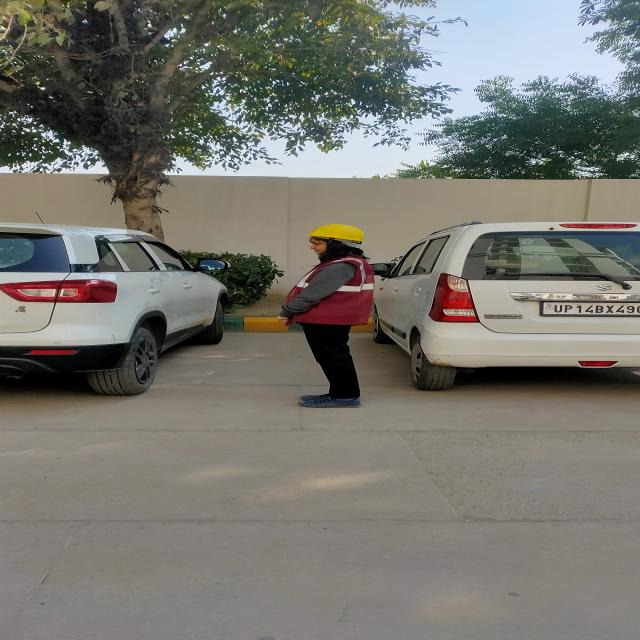safe: (277, 224, 376, 408)
